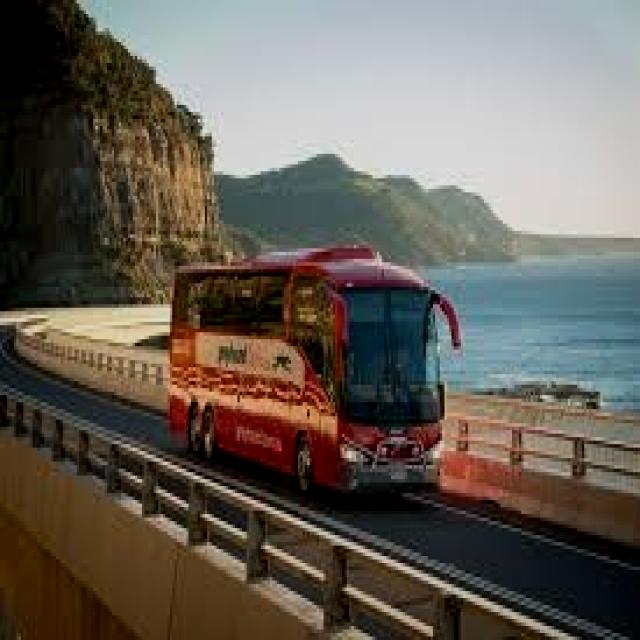bus: (160, 241, 464, 509)
